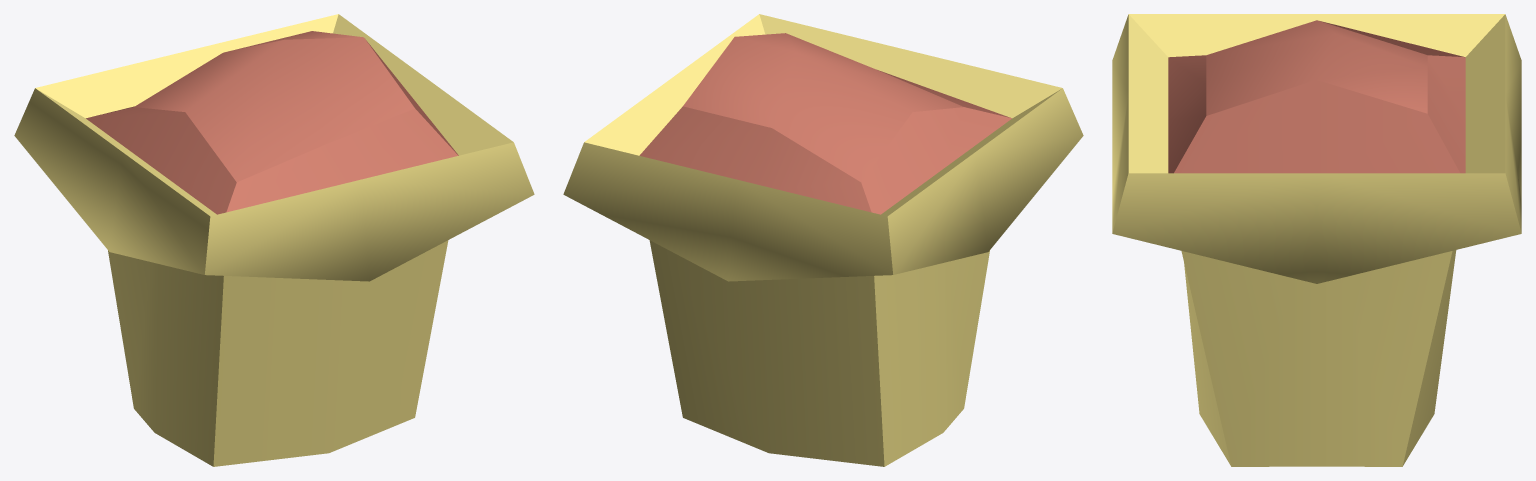
Rendered from Fertilizer_Red.fbx.
3 views of the same model, side by side, from view 1: azimuth 30°, elevation 25°; view 2: azimuth 150°, elevation 25°; view 3: azimuth 270°, elevation 25° (orthographic). The views are drawn at different scales.
Parts seen in each view (by area): view 1: Fertilizer_Red; view 2: Fertilizer_Red; view 3: Fertilizer_Red.
Part boxes in pixels (x1,y1,x2,y2): Fertilizer_Red: (14,14,534,466); Fertilizer_Red: (563,14,1083,466); Fertilizer_Red: (1112,14,1521,466).
Bounding box in the file's own units: 3.34 × 3.51 × 3.34.
